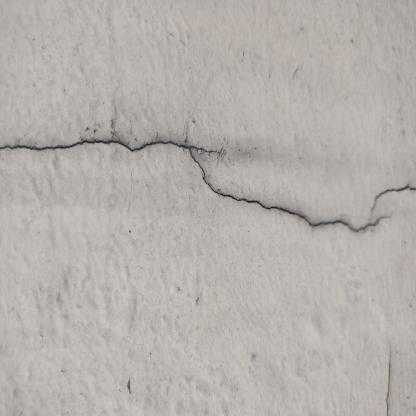crack: (0, 140, 392, 232), (371, 185, 416, 211)
